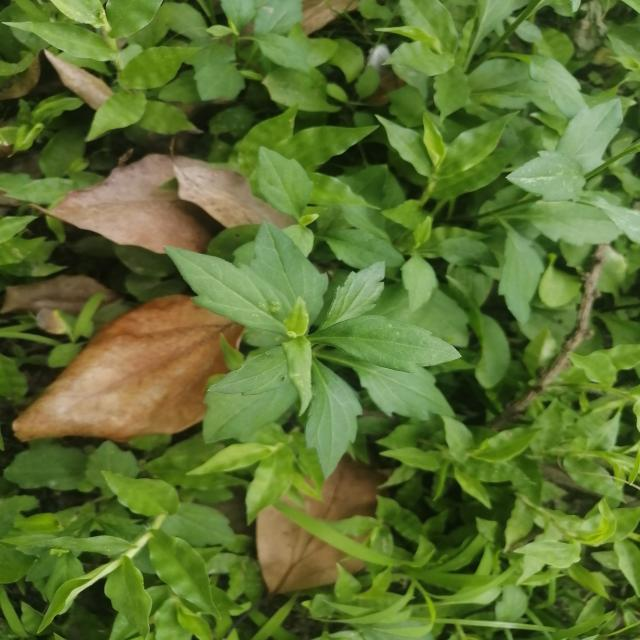Indian aster: (160, 220, 446, 450)
